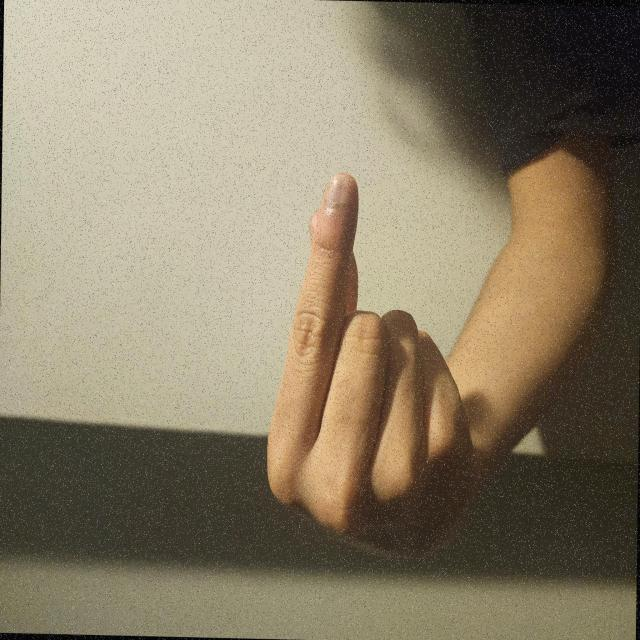Q: (53, 347, 353, 640)
